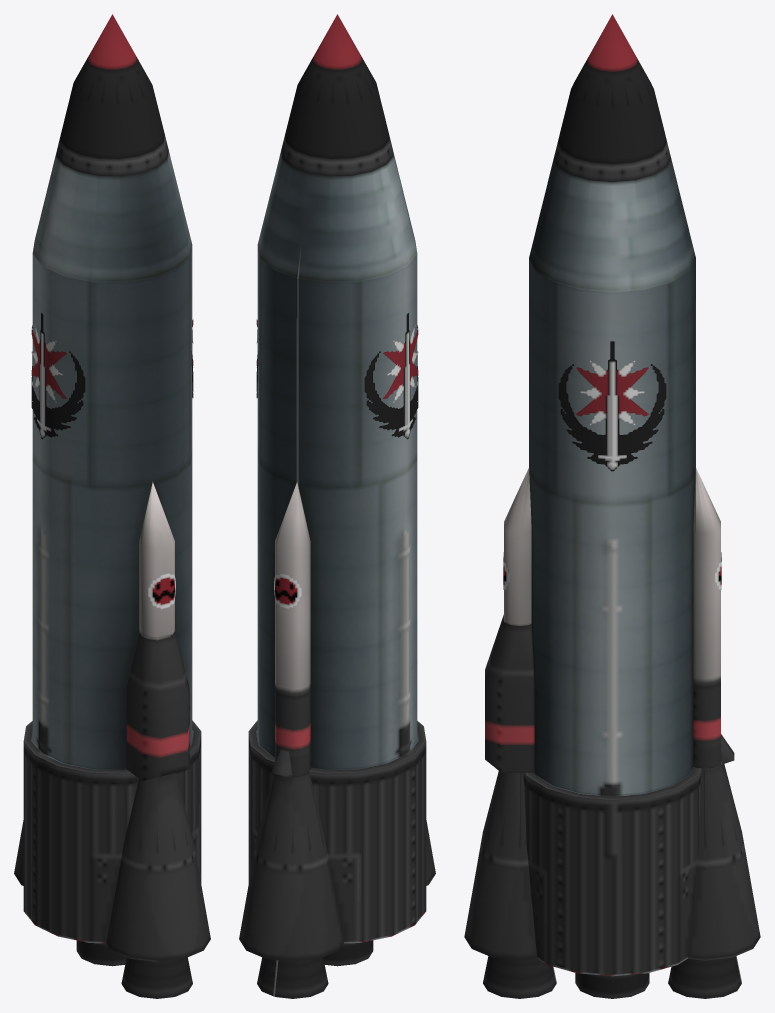
Rendered from missile_volcano.obj.
The picture shows the model from 3 angles, left to right: view 1: azimuth 30°, elevation 25°; view 2: azimuth 150°, elevation 25°; view 3: azimuth 270°, elevation 25°; orthographic projection. The views are drawn at different scales.
Visible parts, largest first — view 1: missile_volcano; view 2: missile_volcano; view 3: missile_volcano.
Boxes of the visible parts, bbox=[...] form: missile_volcano: bbox=[14, 14, 210, 998]; missile_volcano: bbox=[239, 14, 435, 998]; missile_volcano: bbox=[464, 14, 760, 998].
Bounding box in the file's own units: 2.5 × 14.44 × 4.
